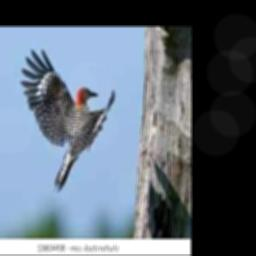Woodpecker: (19, 48, 114, 192)
